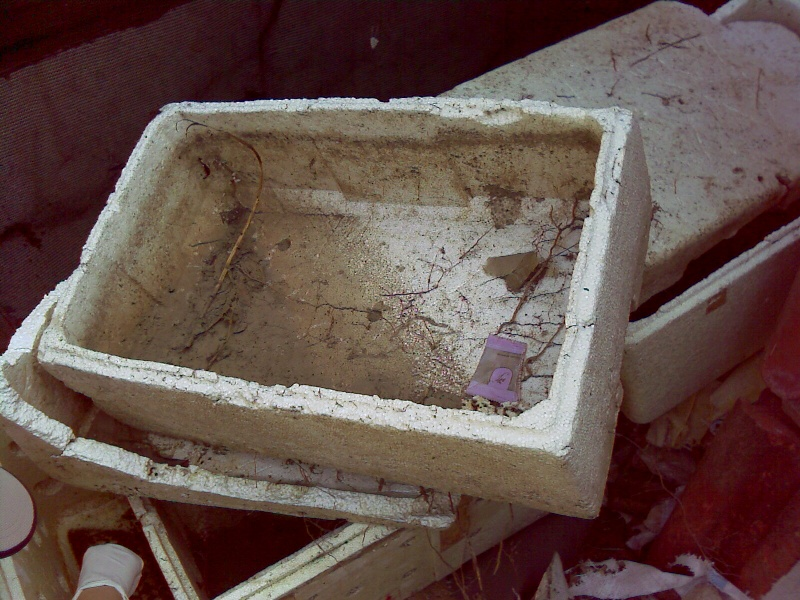styrofoam: (36, 95, 657, 524), (438, 1, 800, 423)
